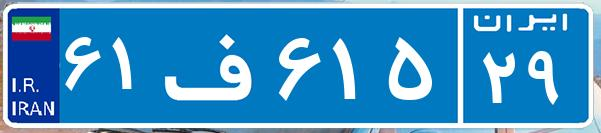1: (330, 28, 385, 110), (110, 28, 158, 105)
2: (475, 38, 525, 113)
5: (385, 28, 445, 110)
6: (273, 28, 330, 110), (57, 26, 110, 107)
9: (525, 38, 570, 115)
ف: (158, 15, 273, 115)
